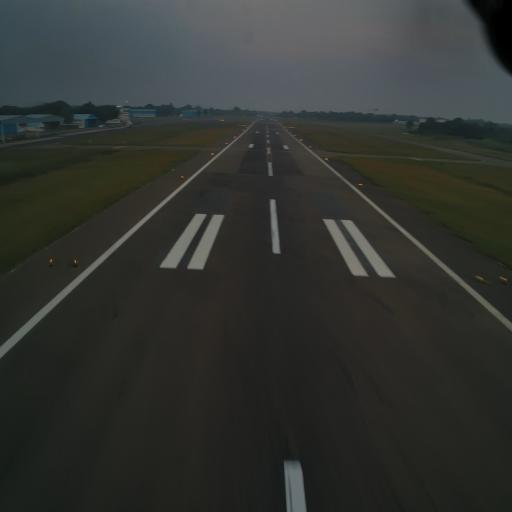on: (474, 270, 486, 286), (501, 272, 507, 288), (48, 253, 54, 267), (71, 255, 78, 266), (358, 180, 363, 188), (180, 174, 185, 181)
